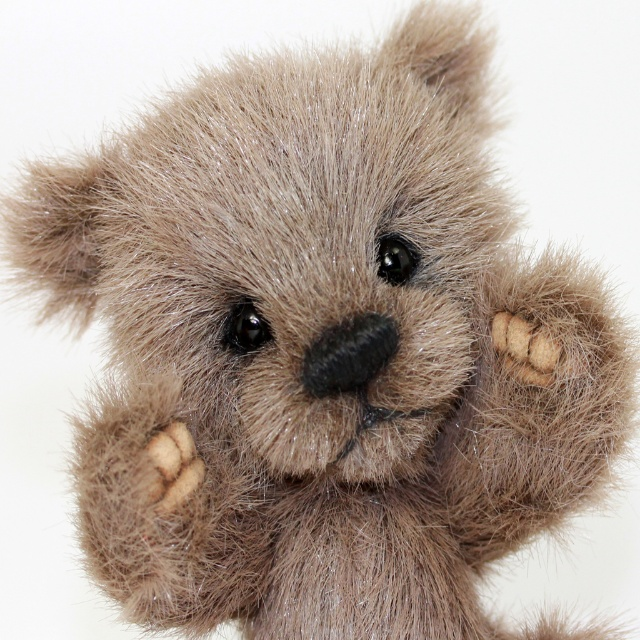Otter: (0, 1, 640, 605)
